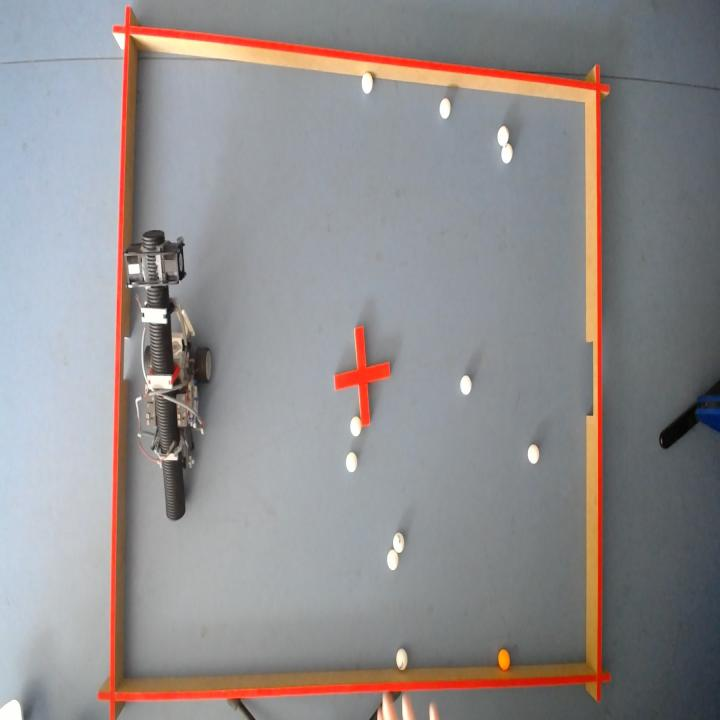orange: (499, 650, 511, 671)
robot: (122, 229, 211, 520)
white: (440, 95, 452, 118), (362, 70, 374, 92), (501, 141, 513, 163), (498, 124, 510, 146), (393, 532, 405, 554), (387, 549, 399, 570), (396, 649, 408, 670), (460, 374, 472, 394), (350, 416, 362, 436), (528, 444, 540, 464), (346, 451, 357, 472)
